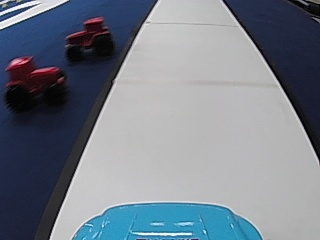Tracktor: (4, 52, 67, 112), (64, 15, 113, 61)
